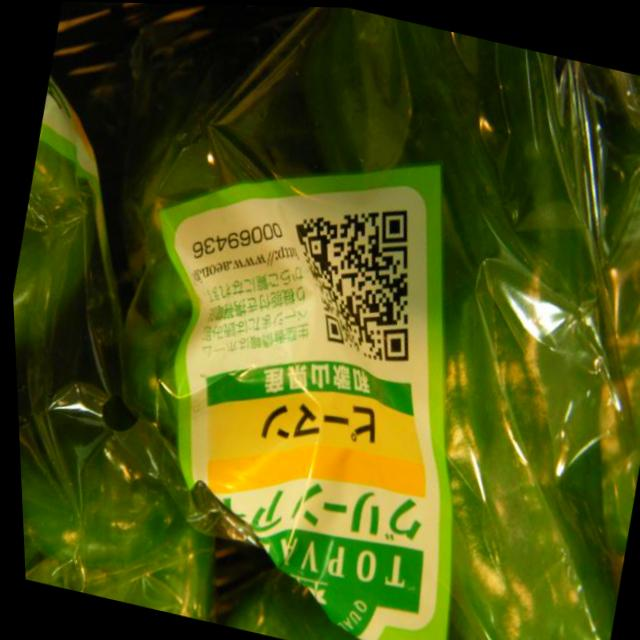qrcode: (266, 184, 435, 364)
